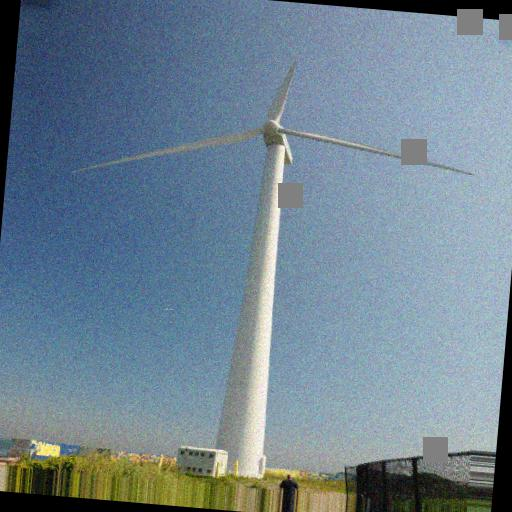wind turbine: (70, 60, 474, 442)
